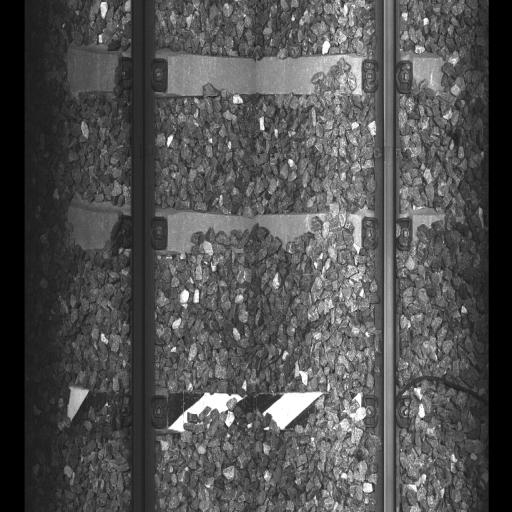clips: (115, 210, 168, 248), (362, 56, 412, 96), (115, 53, 168, 90), (114, 393, 167, 430), (361, 216, 412, 252), (360, 404, 418, 433)
sleepers: (66, 382, 454, 444), (67, 199, 454, 261), (66, 46, 454, 103)
